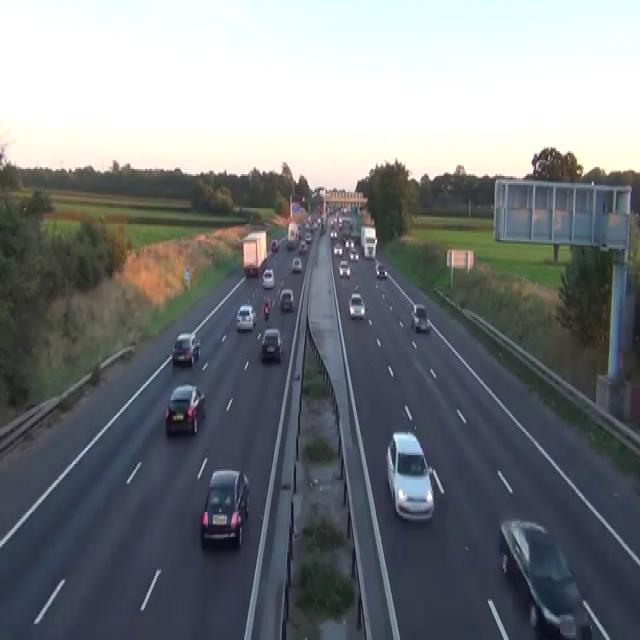Car: (499, 518, 592, 638), (386, 430, 434, 521), (200, 468, 249, 548), (164, 384, 205, 436), (171, 330, 200, 364), (261, 327, 283, 363), (235, 304, 257, 331), (411, 304, 429, 332), (348, 292, 365, 318), (279, 288, 294, 311), (262, 268, 274, 288), (338, 260, 350, 278), (291, 256, 302, 272), (263, 297, 270, 320), (245, 265, 258, 277), (376, 265, 387, 279), (183, 267, 190, 288), (345, 238, 356, 251), (333, 242, 342, 256), (271, 238, 279, 252), (349, 249, 358, 261), (286, 238, 295, 249), (298, 240, 306, 252), (304, 231, 312, 242), (374, 258, 380, 270), (330, 230, 337, 238), (488, 201, 494, 210), (345, 240, 350, 249)
Truck: (242, 230, 267, 278), (360, 226, 377, 258), (287, 221, 299, 247)
